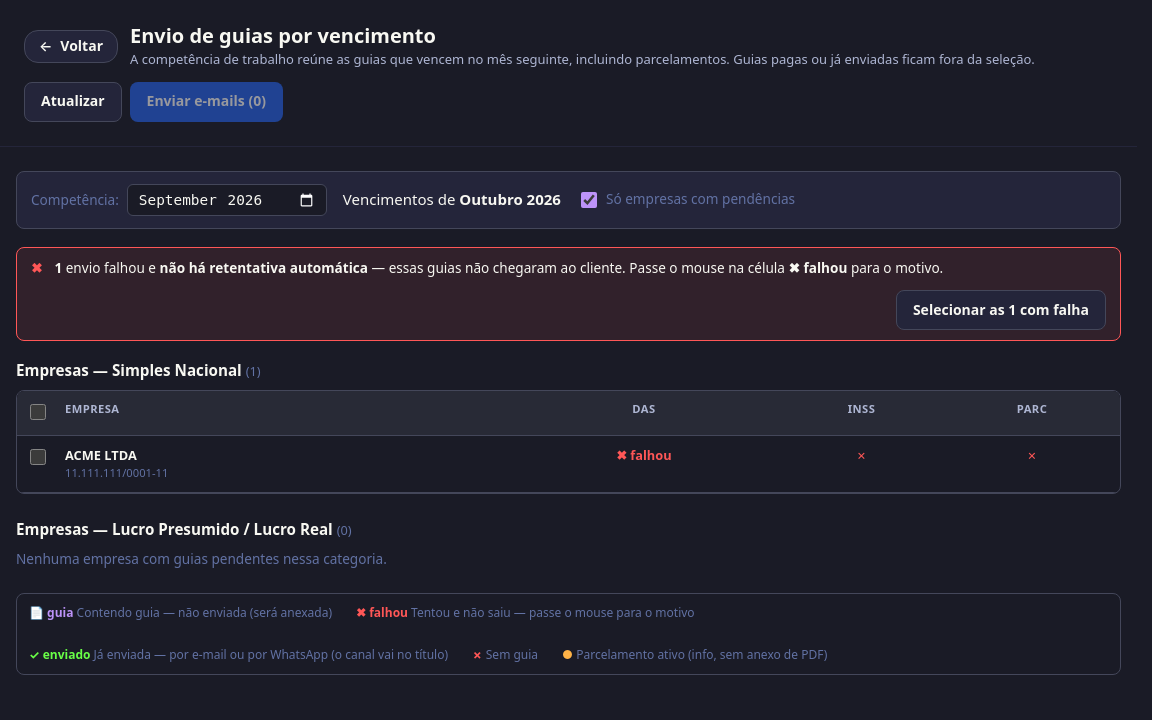
aviso agregado no topo › o botão do aviso seleciona as linhas com falha — o caminho de ação, em um clique
This screenshot has width=1152, height=720.
What coordinates should you click on to do the following:
click the button "Selecionar as 1 com falha"
I would click on:
 (1001, 310)
Its box is [896,290,1106,330].
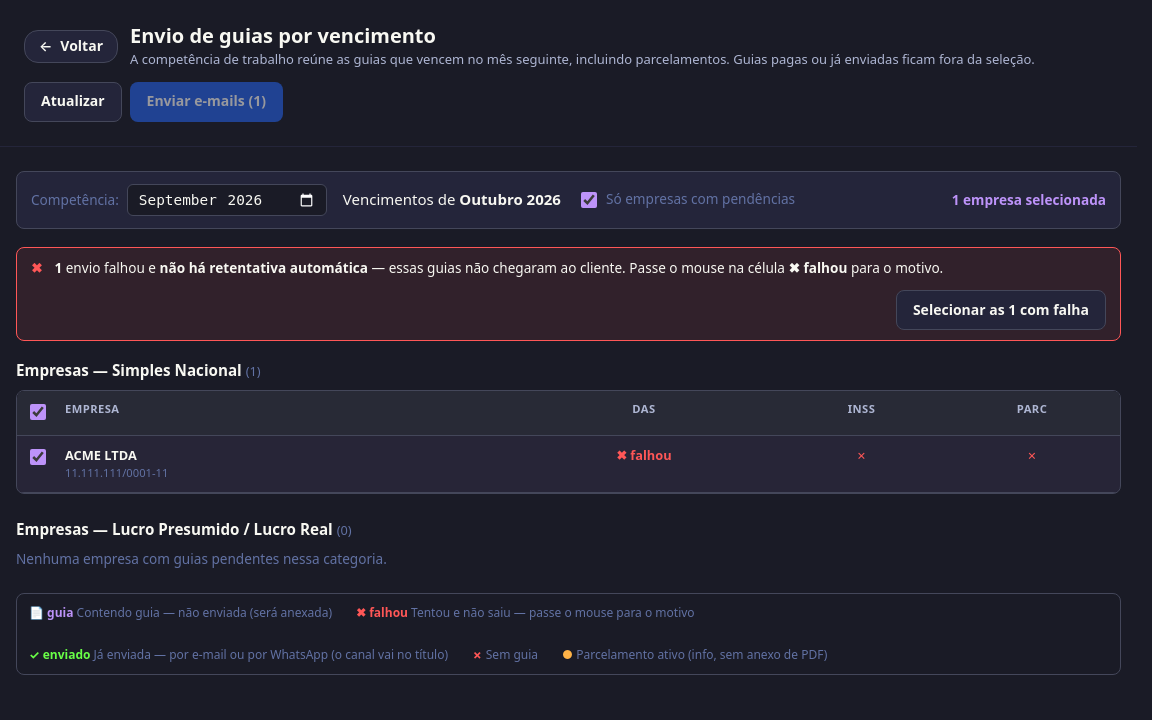
Result: the button "Enviar e-mails (1)" is shown at [130,82,283,122]
